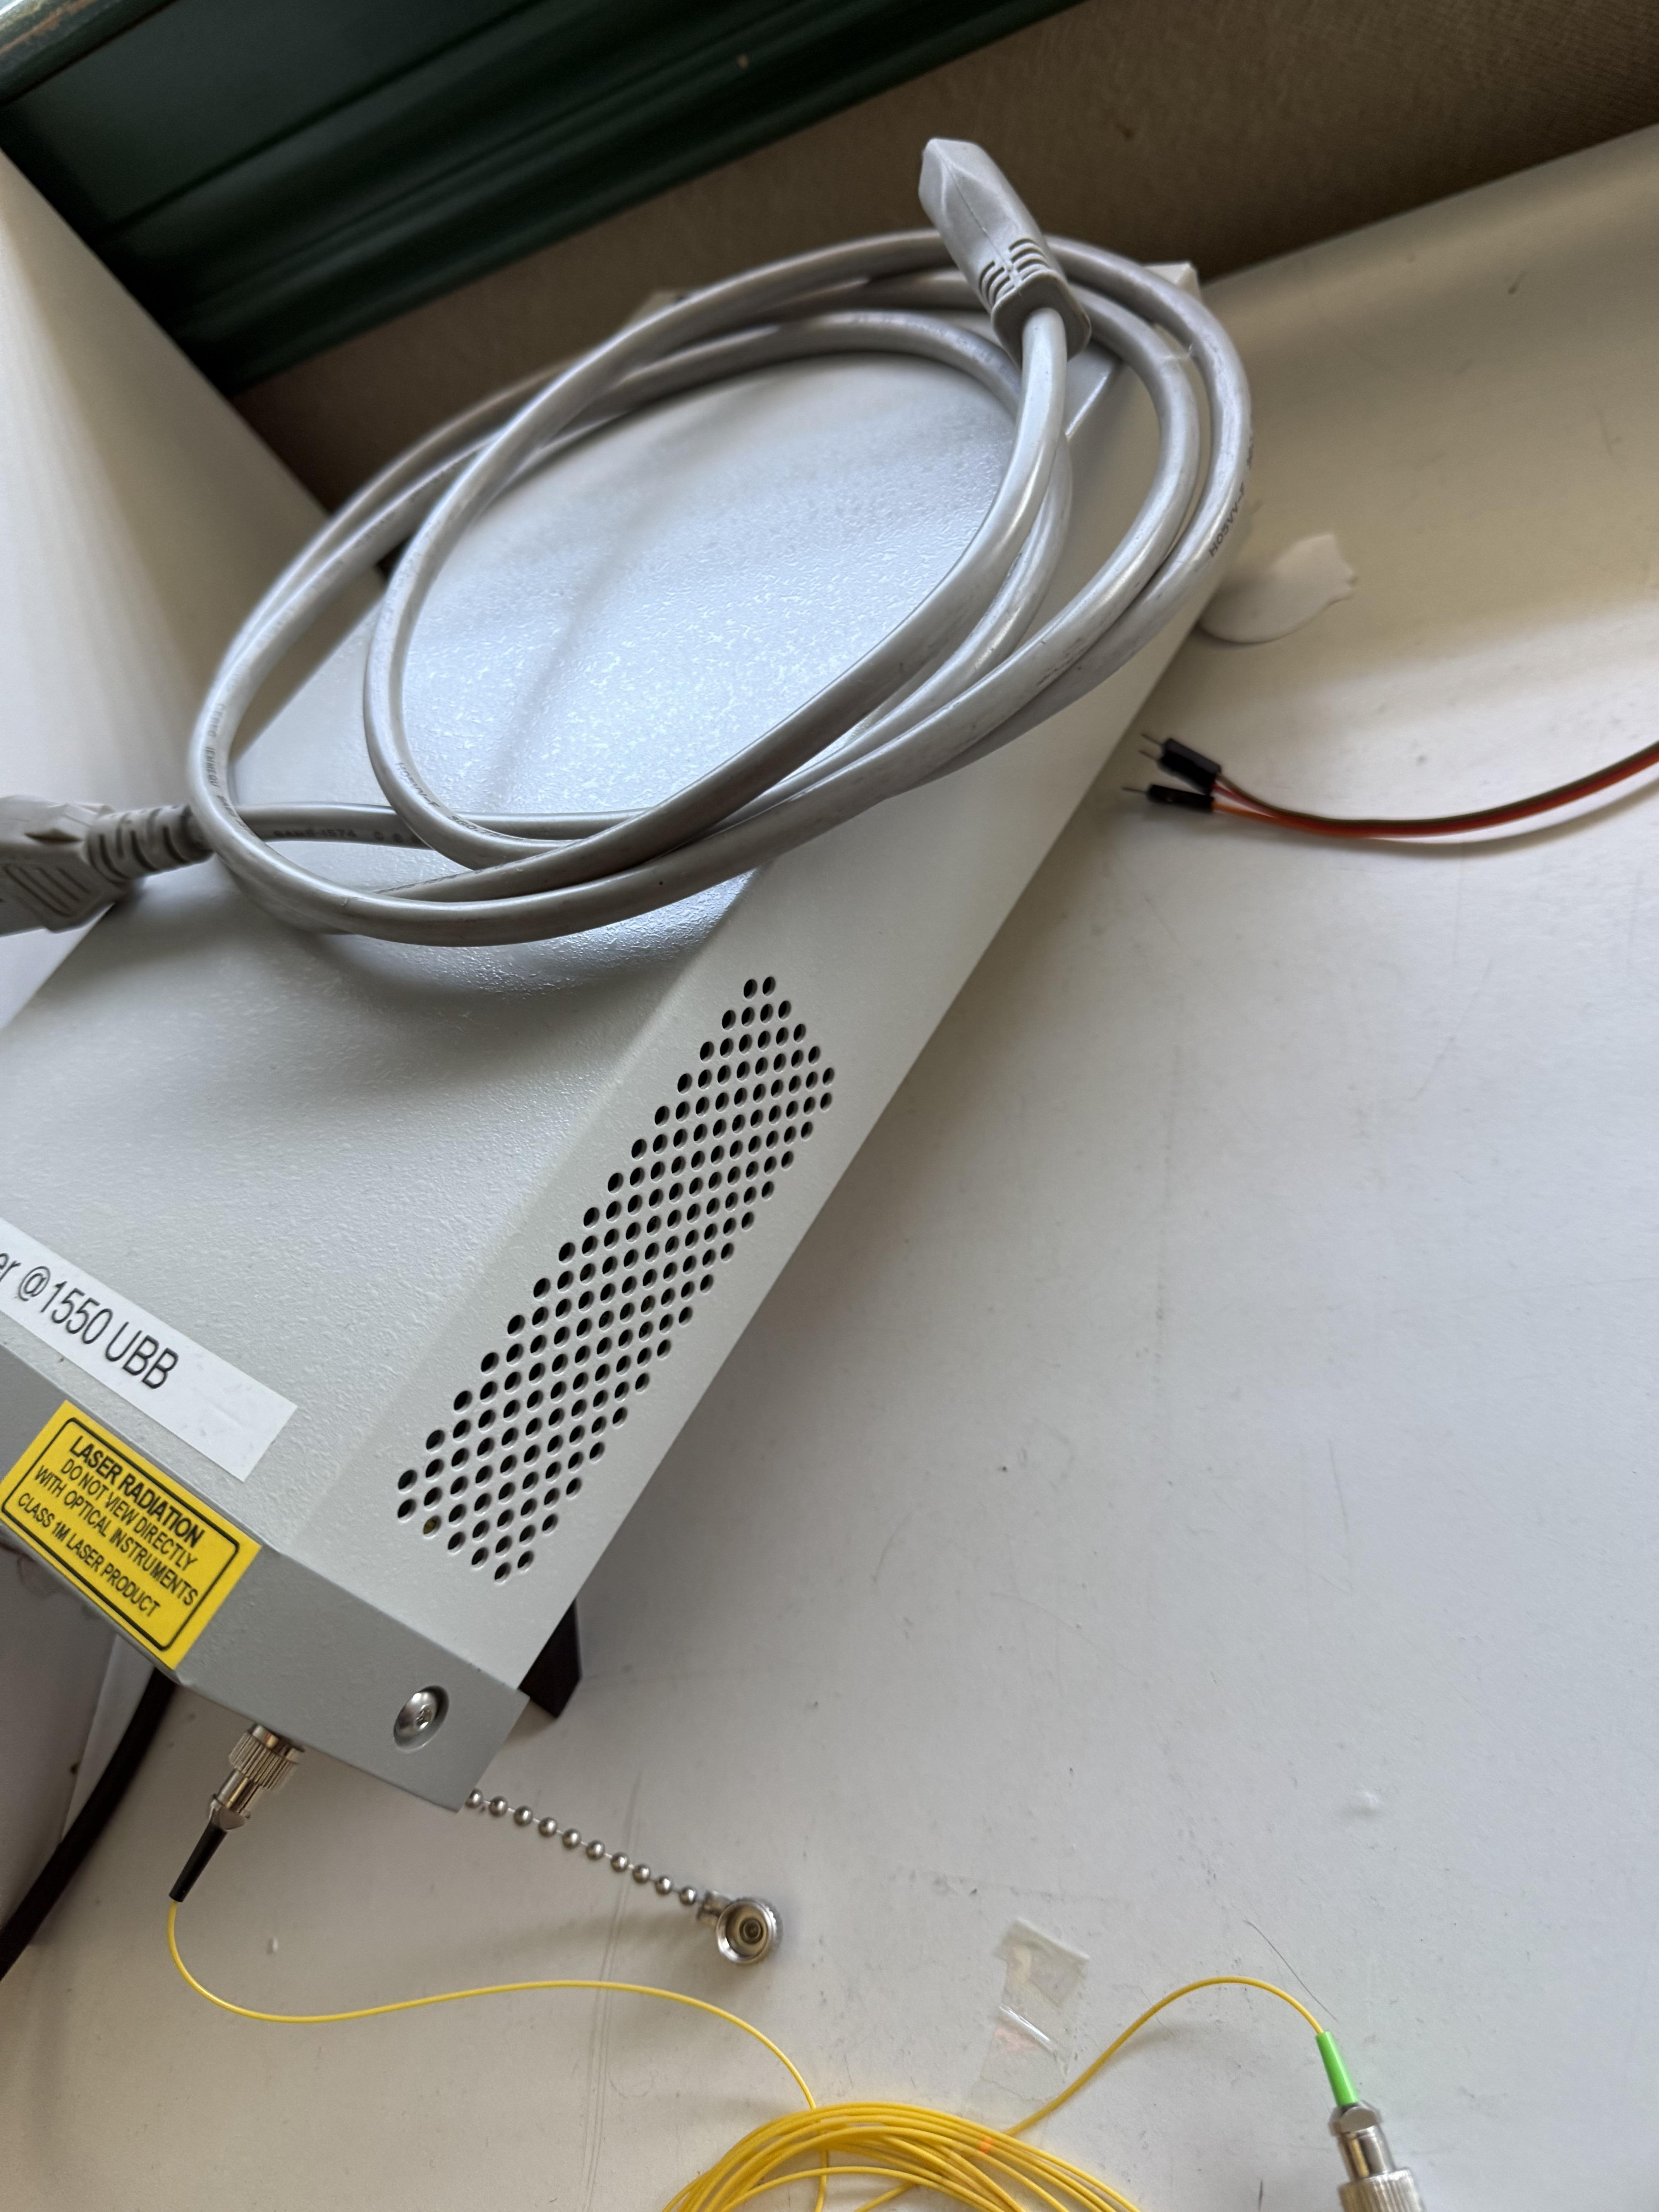laser: (0, 171, 1317, 1987)
